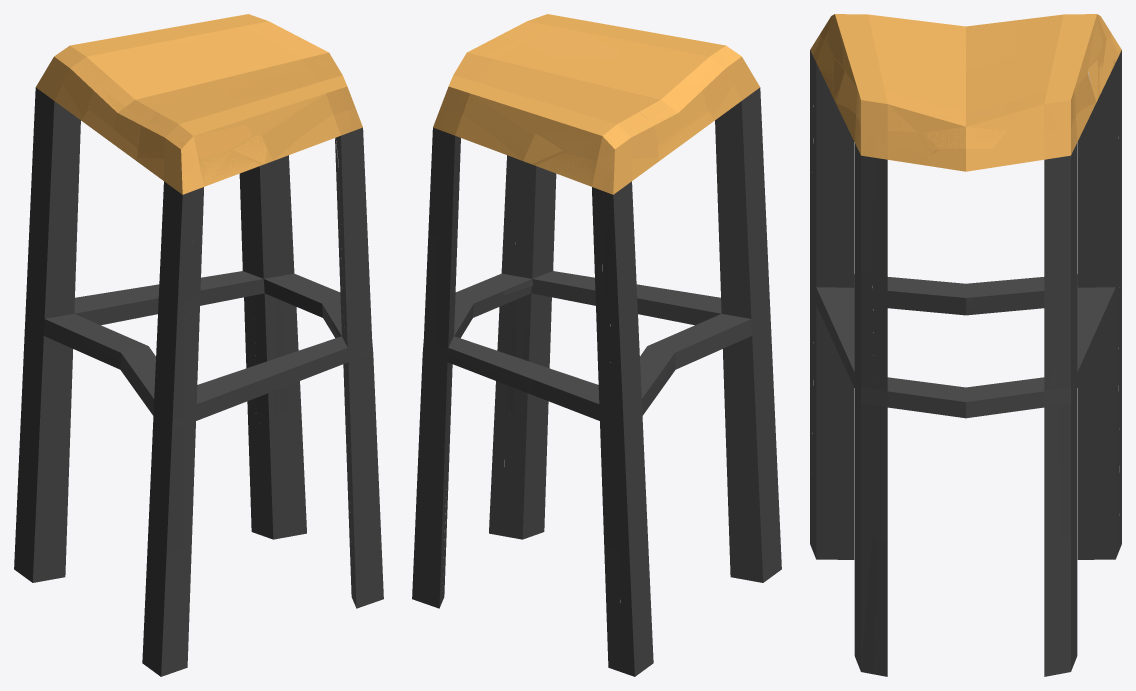
The model's file is shattered_barstool.fbx.
3 renders of one model, left to right at view 1: azimuth 30°, elevation 25°; view 2: azimuth 150°, elevation 25°; view 3: azimuth 270°, elevation 25°, orthographic. The views are drawn at different scales.
Parts seen in each view (by area): view 1: Cube, Cube_cell.061, Cube_cell.086, Cube_cell.068, Cube_cell.035, Cube_cell.052, Cube_cell.003, Cube_cell.051, Cube_cell.005, Cube_cell.017, Cube_cell.063, Cube_cell.013 (+41 smaller); view 2: Cube, Cube_cell.061, Cube_cell.034, Cube_cell.020, Cube_cell.048, Cube_cell.087, Cube_cell.011, Cube_cell.037, Cube_cell.065, Cube_cell.043, Cube_cell.006, Cube_cell.049 (+37 smaller); view 3: Cube, Cube_cell.061, Cube_cell.071, Cube_cell.023, Cube_cell.038, Cube_cell.051, Cube_cell.009, Cube_cell.067, Cube_cell.090, Cube_cell.076, Cube_cell.028, Cube_cell.011 (+44 smaller).
Part boxes in pixels (x1,y1,x2,y2): Cube: (14,16,383,672); Cube_cell.061: (102,60,227,118); Cube_cell.086: (29,321,74,458); Cube_cell.068: (262,414,289,539); Cube_cell.035: (157,415,183,552); Cube_cell.052: (40,79,81,209); Cube_cell.003: (168,173,192,302); Cube_cell.051: (213,38,331,82); Cube_cell.005: (276,111,351,240); Cube_cell.017: (152,548,174,676); Cube_cell.063: (74,34,178,85); Cube_cell.013: (191,152,261,297); Cube: (417,16,781,672); Cube_cell.061: (568,61,693,118); Cube_cell.034: (724,322,766,458); Cube_cell.020: (506,414,535,539); Cube_cell.048: (458,87,556,159); Cube_cell.087: (612,415,638,552); Cube_cell.011: (525,20,621,72); Cube_cell.037: (721,204,759,340); Cube_cell.065: (621,547,643,676); Cube_cell.043: (603,172,626,302); Cube_cell.006: (714,79,755,209); Cube_cell.049: (444,111,519,240); Cube: (810,14,1121,674); Cube_cell.061: (915,20,1016,69); Cube_cell.071: (1097,424,1119,559); Cube_cell.023: (812,424,834,559); Cube_cell.038: (812,167,834,294); Cube_cell.051: (927,68,1005,119); Cube_cell.009: (873,134,927,274); Cube_cell.067: (1055,534,1073,674); Cube_cell.090: (1097,167,1119,332); Cube_cell.076: (1058,390,1074,538); Cube_cell.028: (857,390,873,538); Cube_cell.011: (869,55,950,101).
Bounding box in the file's own units: 46.98 × 91.97 × 48.75.
